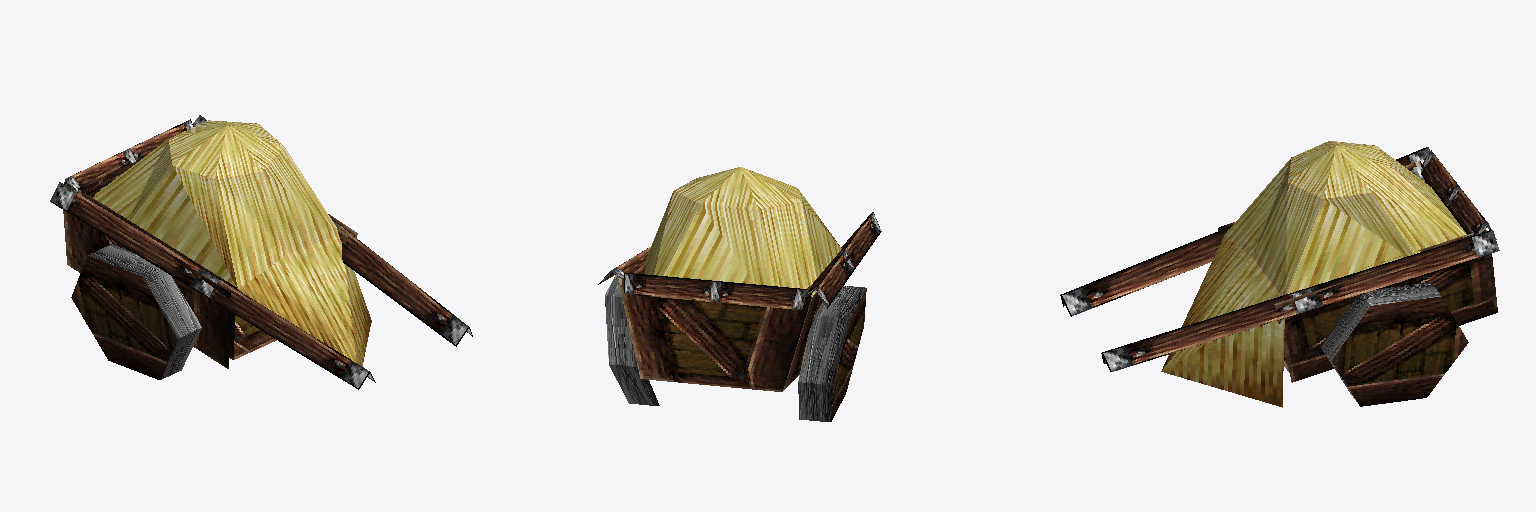
3 renders of one model, left to right at view 1: azimuth 30°, elevation 25°; view 2: azimuth 150°, elevation 25°; view 3: azimuth 270°, elevation 25°, orthographic.
Visible parts, largest first — view 1: HayCart; view 2: HayCart; view 3: HayCart.
Part boxes in pixels (left/top/right/bottom): HayCart: left=50, top=115, right=472, bottom=389; HayCart: left=598, top=167, right=881, bottom=421; HayCart: left=1060, top=141, right=1499, bottom=407.
Size of the model in its own units: 4.29 by 3.39 by 6.14.
Materials: 1 (1 with a texture image).